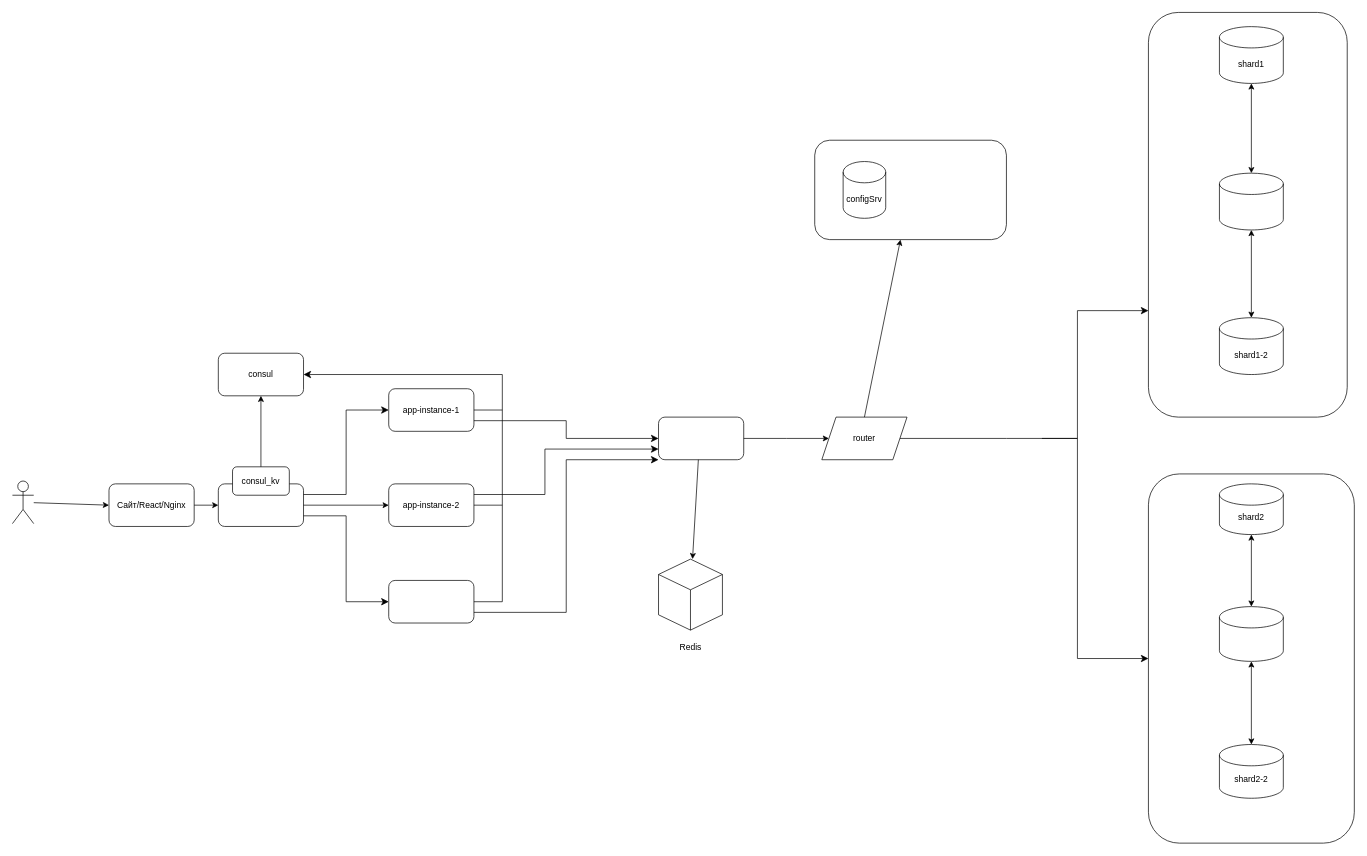
The diagram is 1367 pixels wide and 856 high, and some of its shapes have lost their labels. The centre of each missing label's shape, as x and y in pixels:
app-instance-3: the point at 431,601
gateway: the point at 261,504
pymongo-api: the point at 701,438
shard1-1: the point at 1251,201
shard2-1: the point at 1251,633
User: the point at 23,502
